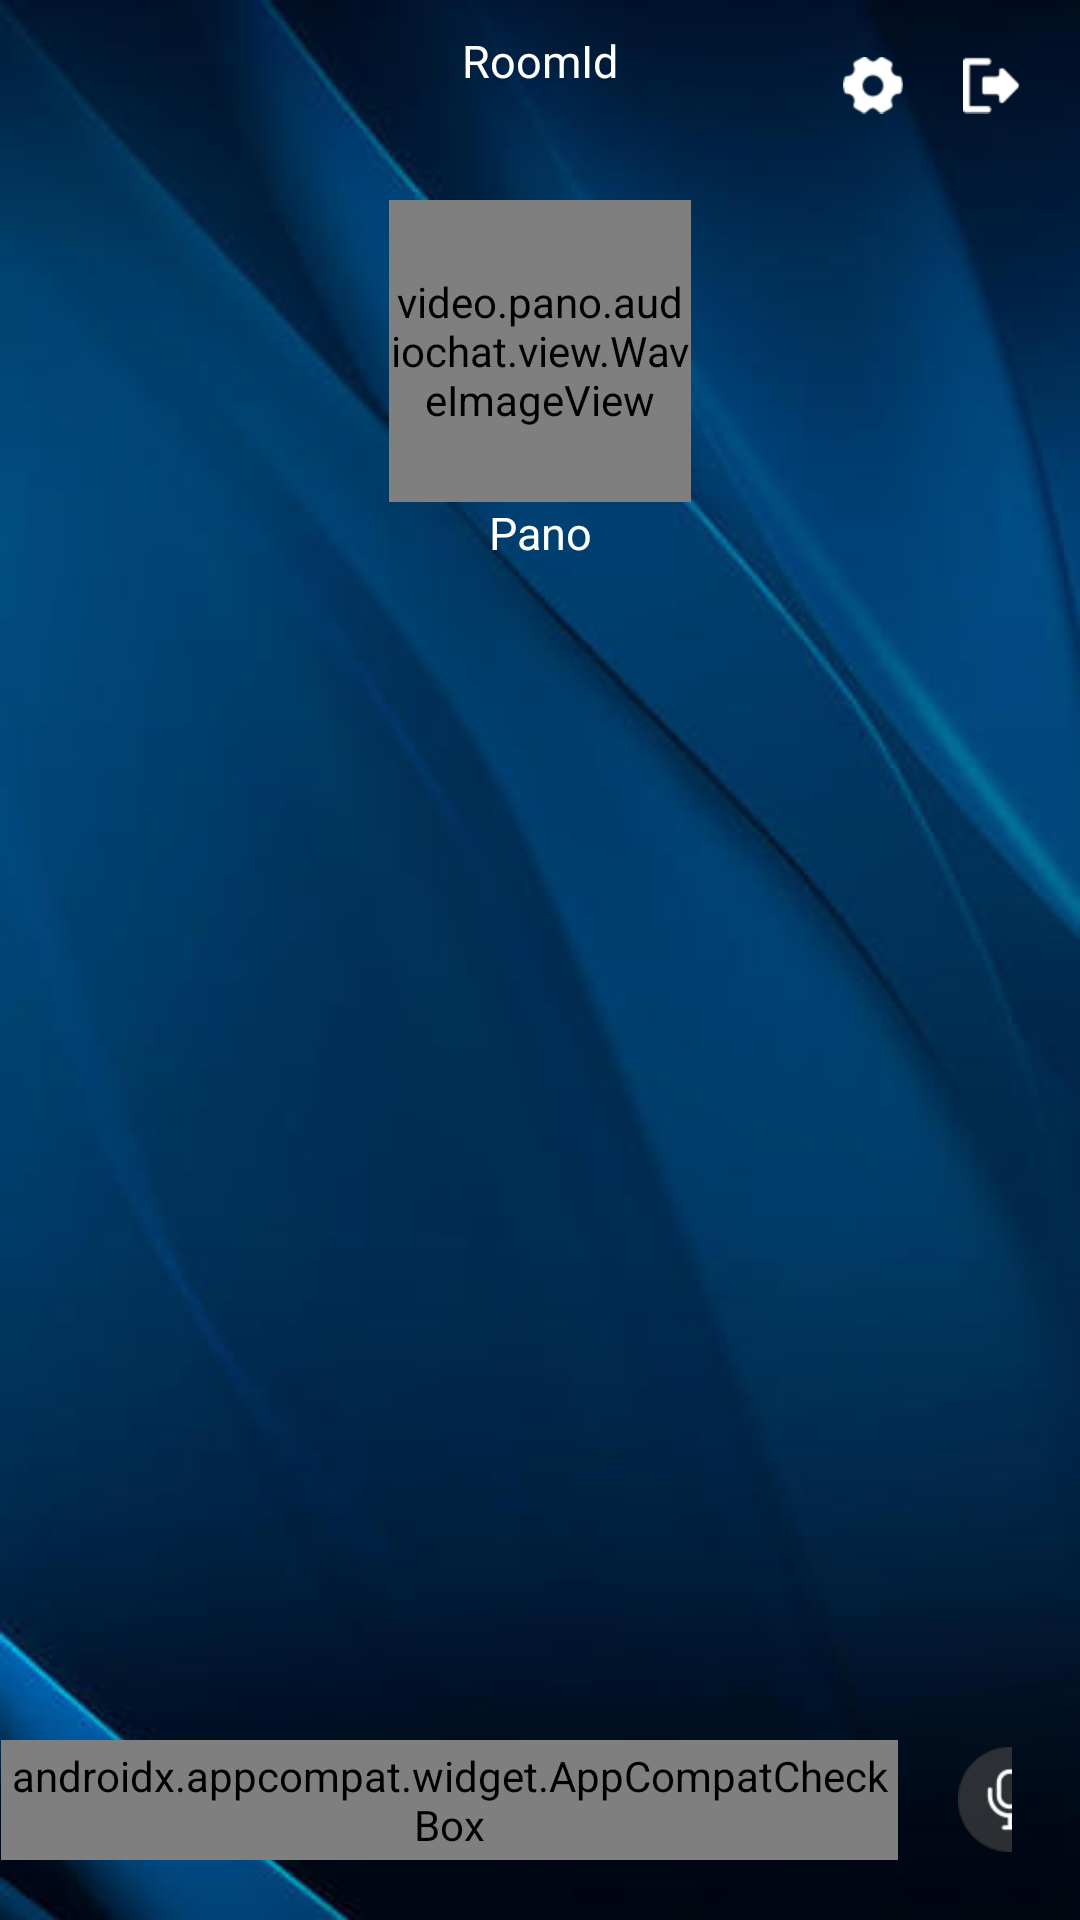

Where icons sit on this 1080px×1920px app screen, as (x1, y1, x2, y2):
exit: (963, 57, 1020, 114)
setting: (843, 57, 903, 114)
